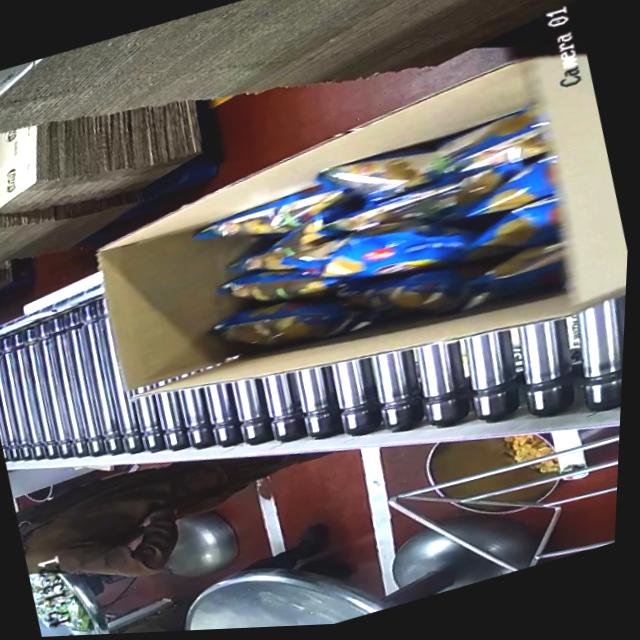PAPRIKA: (178, 102, 579, 369)
